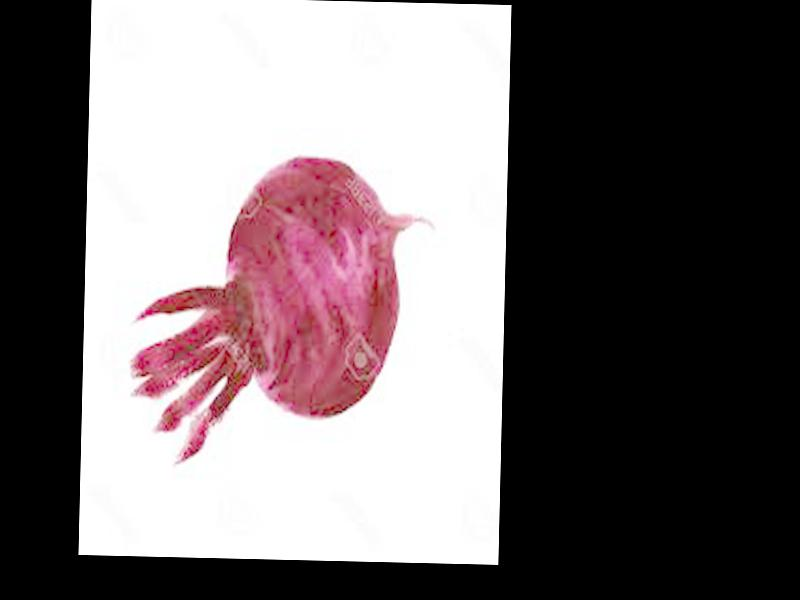Beet: (128, 150, 437, 469)
